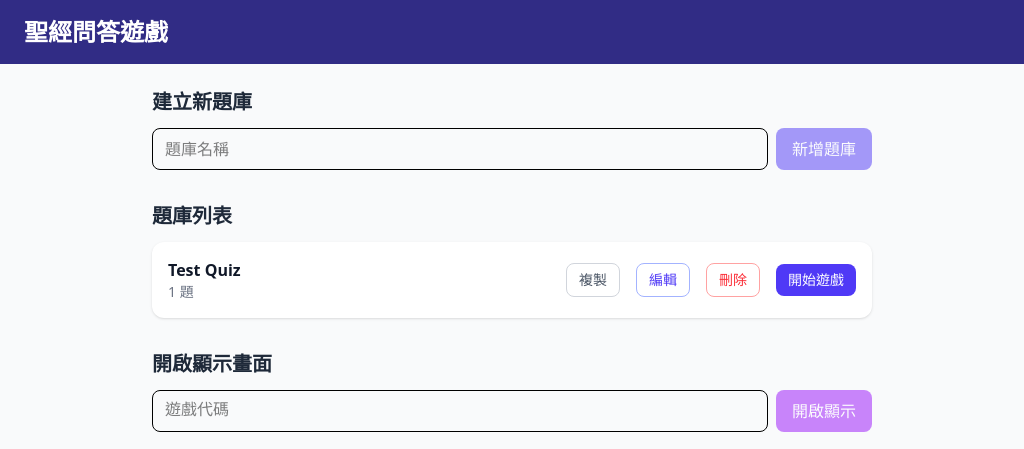
Test case: HomePage › clicking 刪除 shows confirm buttons
This screenshot has width=1024, height=449.
Expected: the heading "Test Quiz" is shown, [168,259,241,281]
What coordinates should you click on to do the following:
click the button with aria-label "刪除題庫"
I would click on:
 (733, 280)
Its box is [706,263,760,297].
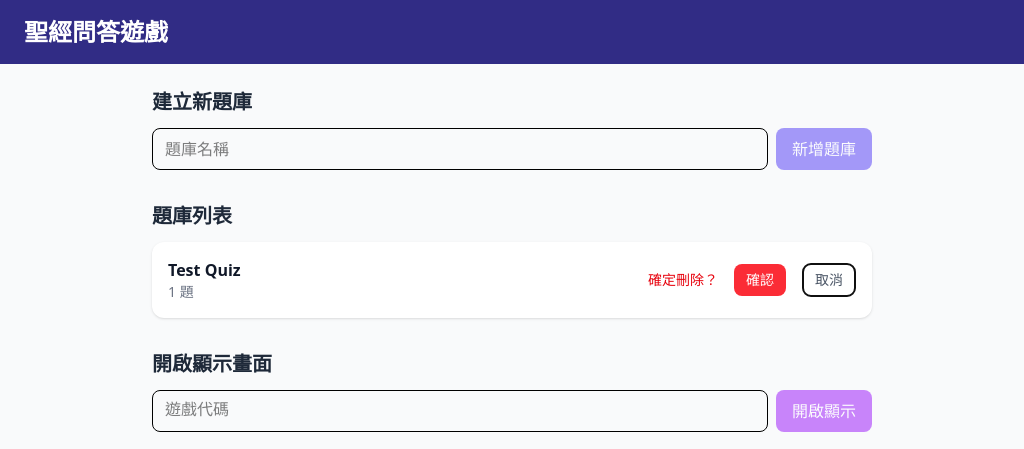
Now the text "確定刪除？" is shown, box [648,270,718,290]
Now the button with aria-label "確認刪除" is shown, box [734,264,786,296]
Now the button "取消" is shown, box [802,263,856,297]
